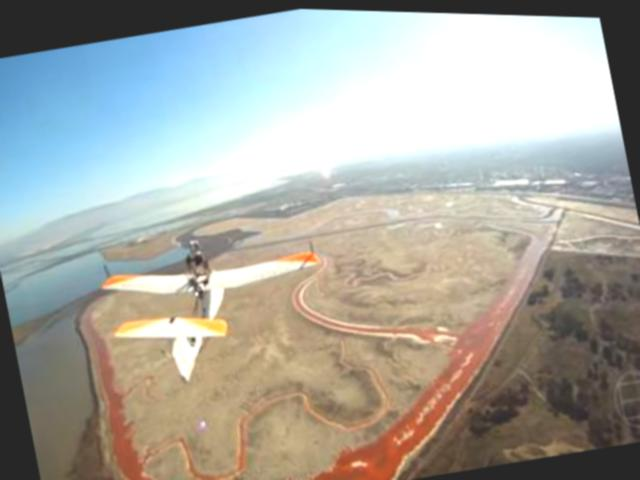uav: (92, 220, 344, 403)
